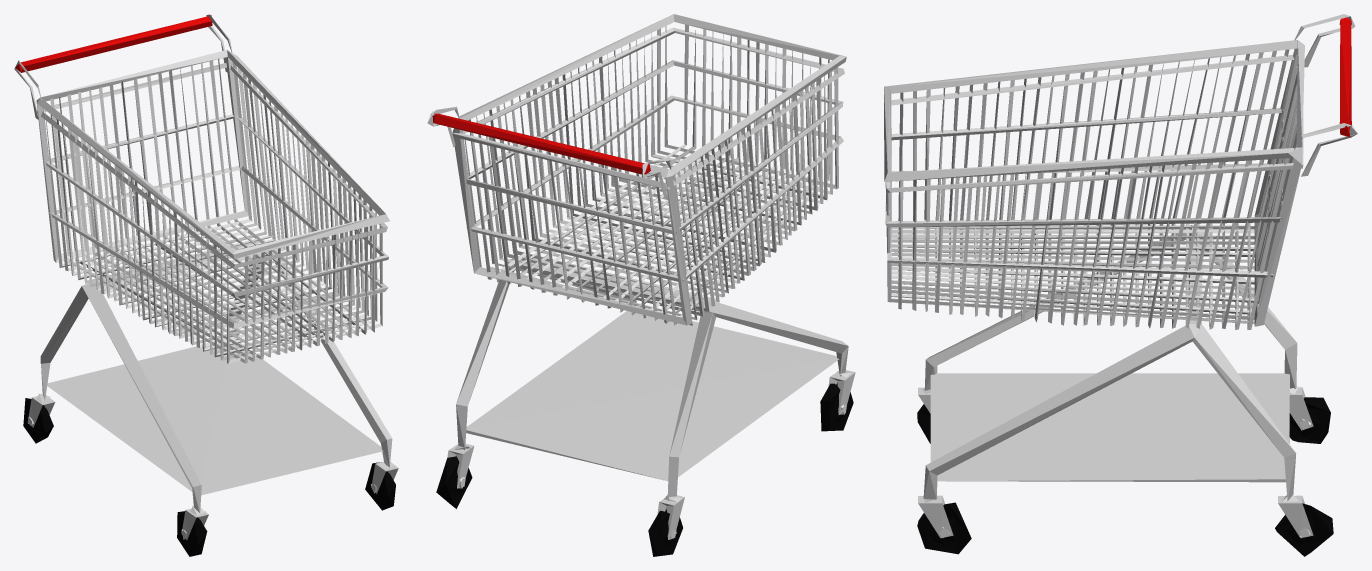
File: shoppingcart_lowerPoly.fbx
3 views of the same model, side by side, from view 1: azimuth 30°, elevation 25°; view 2: azimuth 150°, elevation 25°; view 3: azimuth 270°, elevation 25° (orthographic). The views are drawn at different scales.
Parts seen in each view (by area): view 1: shopping cart; view 2: shopping cart; view 3: shopping cart.
Part boxes in pixels (x1=…): shopping cart: x1=14, y1=14, x2=398, y2=556; shopping cart: x1=427, y1=14, x2=855, y2=556; shopping cart: x1=884, y1=14, x2=1357, y2=556.
Bounding box in the file's own units: 40.3 × 69.26 × 68.87.
